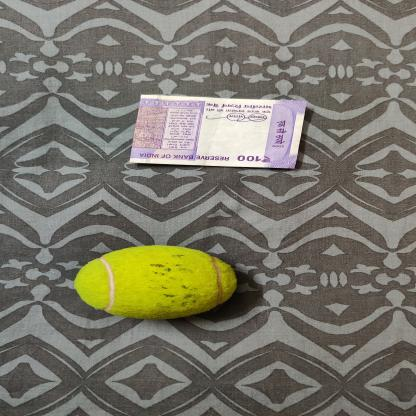New100Back: (126, 94, 309, 170)
